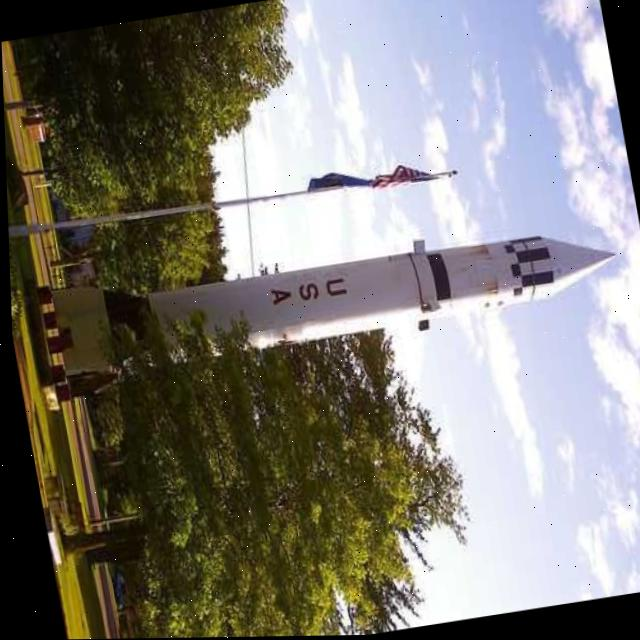missile: (25, 208, 625, 401)
